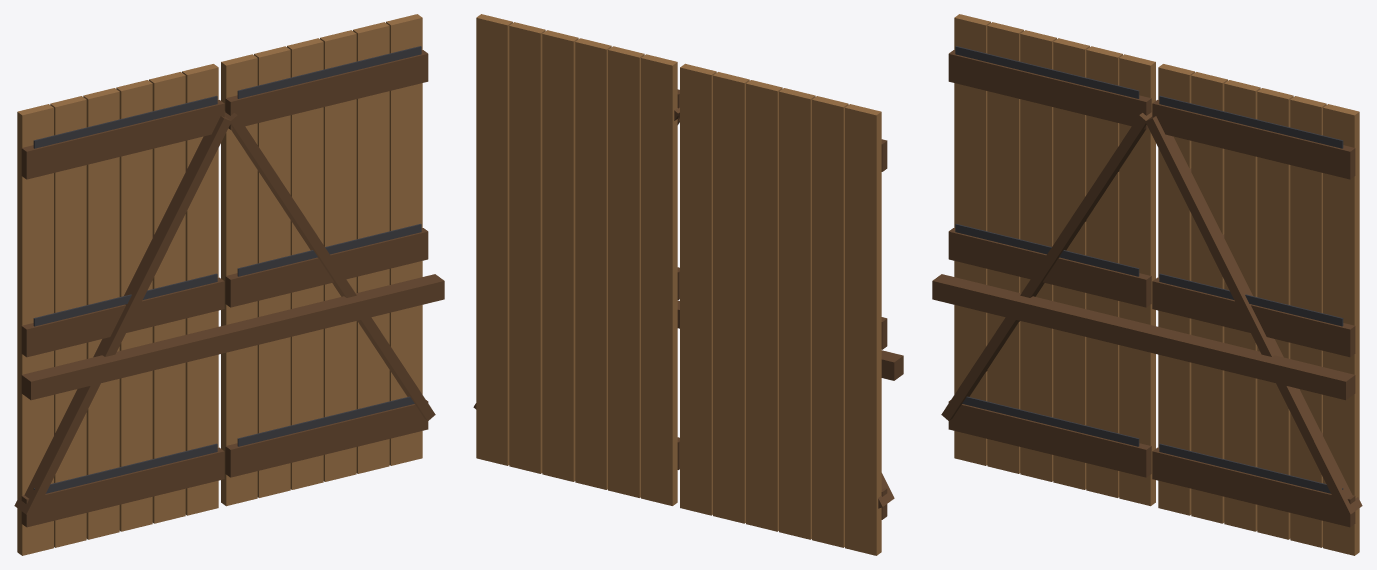
Rendered from WaygateGates.fbx.
3 renders of one model, left to right at view 1: azimuth 30°, elevation 25°; view 2: azimuth 150°, elevation 25°; view 3: azimuth 330°, elevation 25°, orthographic.
Parts seen in each view (by area): view 1: WaygateGates; view 2: WaygateGates; view 3: WaygateGates.
Part boxes in pixels (bbox=[...]): WaygateGates: bbox=[14, 14, 444, 555]; WaygateGates: bbox=[473, 14, 903, 555]; WaygateGates: bbox=[932, 14, 1362, 555].
Size of the model in its own units: 2.8 by 2.85 by 0.24.
